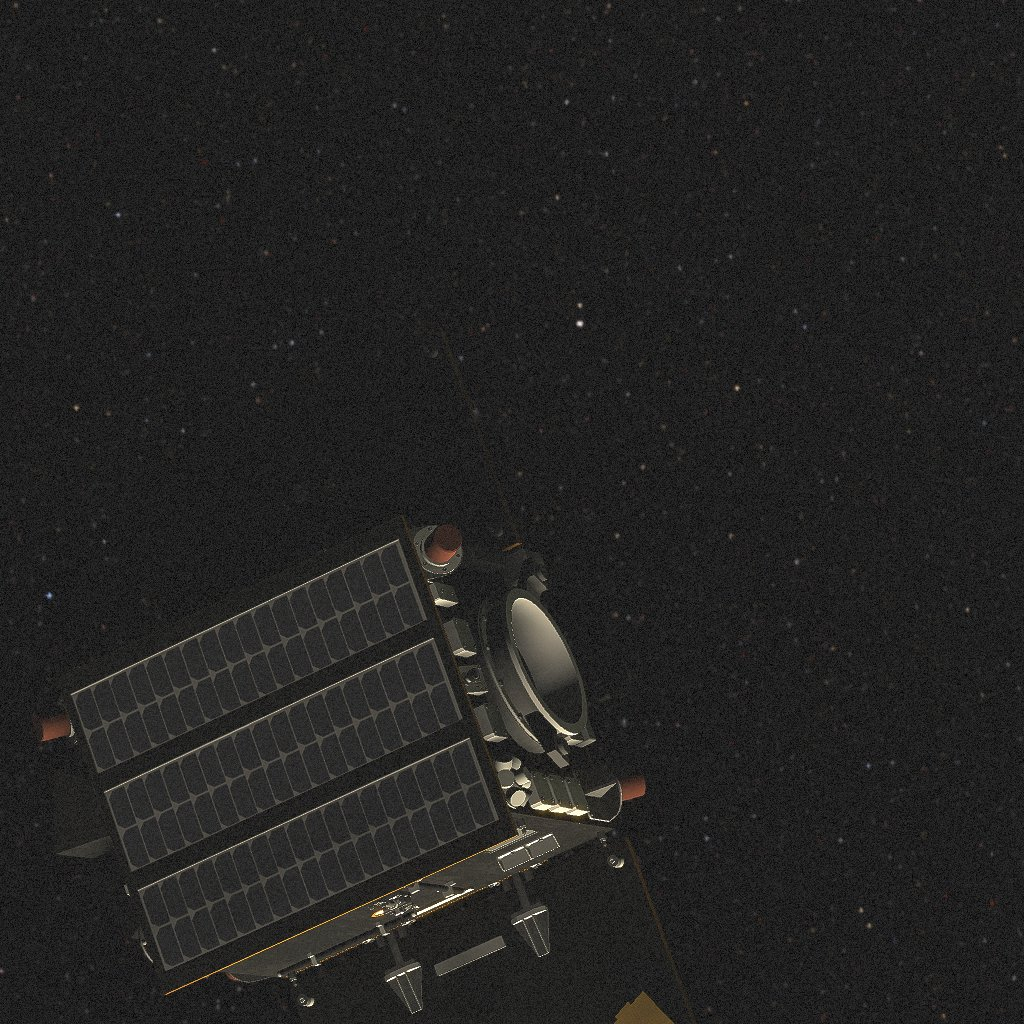proba_2: (32, 328, 696, 1024)
